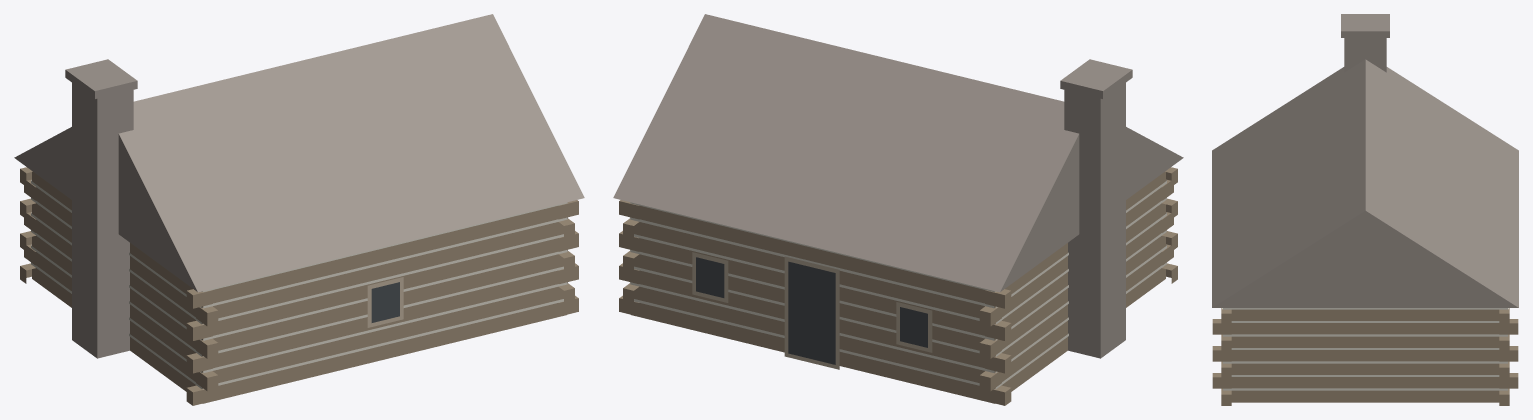
File: james_kinzie_house__dwelling_1830.glb
3 views of the same model, side by side, from view 1: azimuth 30°, elevation 25°; view 2: azimuth 150°, elevation 25°; view 3: azimuth 270°, elevation 25° (orthographic). The views are drawn at different scales.
Visible parts, largest first — view 1: james_kinzie_house__dwelling_1830; view 2: james_kinzie_house__dwelling_1830; view 3: james_kinzie_house__dwelling_1830.
Part boxes in pixels (x1,y1,x2,y2): james_kinzie_house__dwelling_1830: (14,14,584,405); james_kinzie_house__dwelling_1830: (613,14,1183,405); james_kinzie_house__dwelling_1830: (1212,14,1518,405).
Bounding box in the file's own units: 9.07 × 5.74 × 7.
